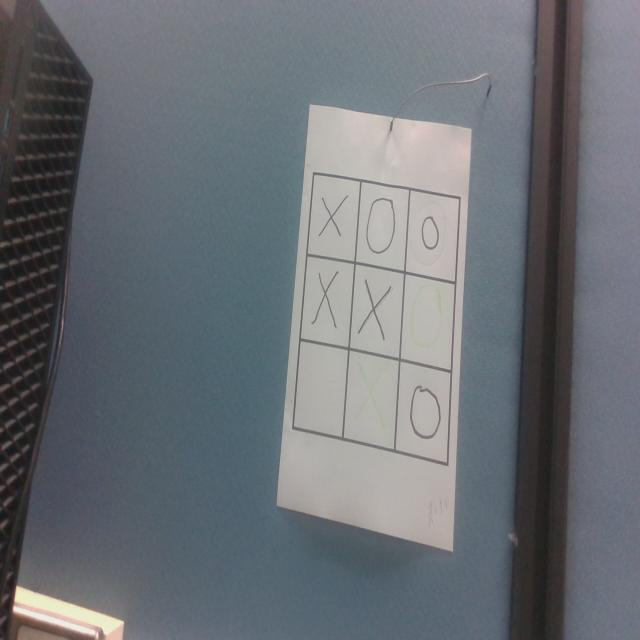null: (294, 341, 347, 440)
o: (410, 283, 443, 352), (409, 384, 442, 440), (366, 195, 396, 256), (421, 215, 440, 251)
table: (297, 164, 466, 464)
x: (354, 363, 386, 432), (312, 268, 343, 331), (357, 278, 389, 338), (320, 191, 349, 246)
